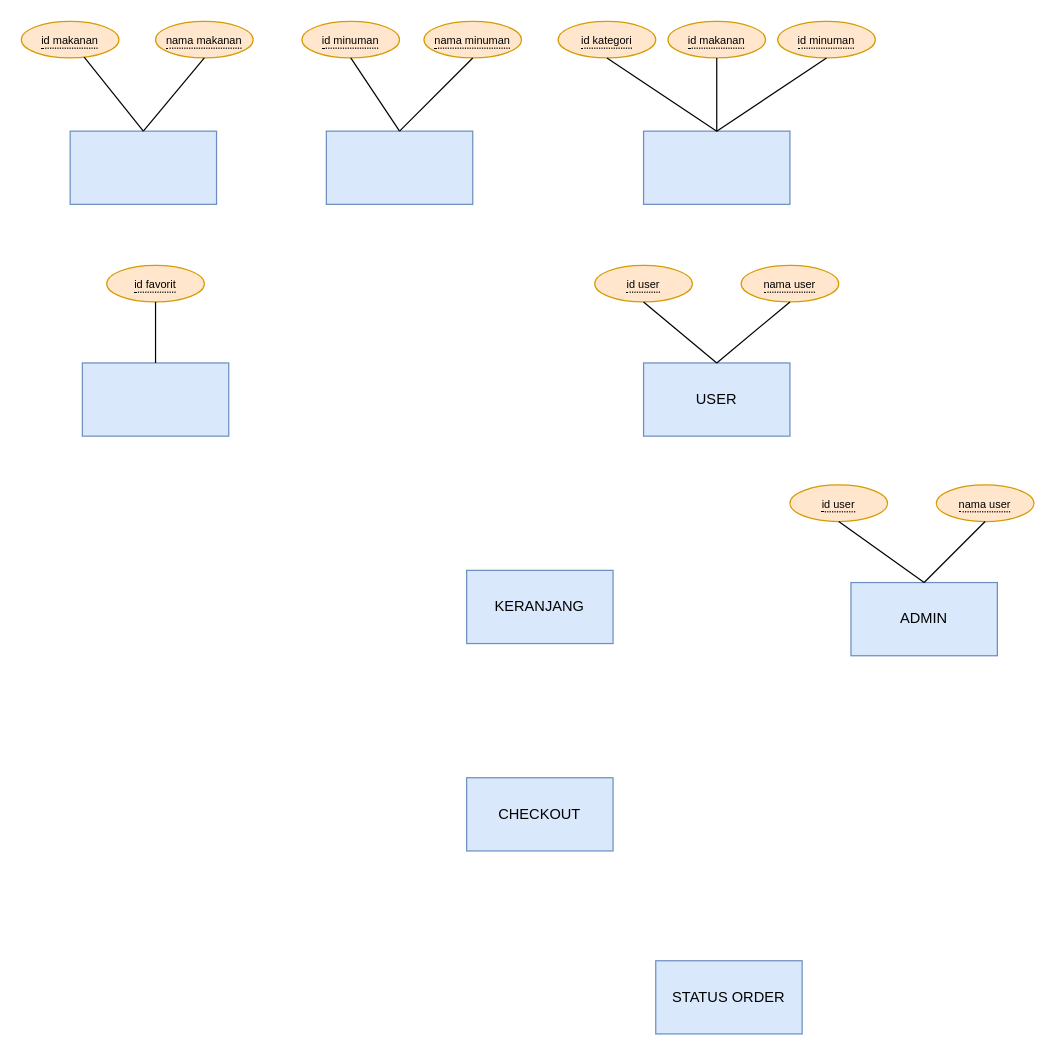
The diagram is 1055 pixels wide and 1055 high, and some of its shapes have lost their labels. The shapes that lost their labels are listed below. From the top down, each one's box as (x1, y1, x2, y2) in pixels, then its label:
(69, 130, 217, 204): MAKANAN
(325, 130, 473, 204): MINUMAN
(642, 130, 790, 204): KATEGORI
(81, 362, 229, 436): FAVORITE USER
